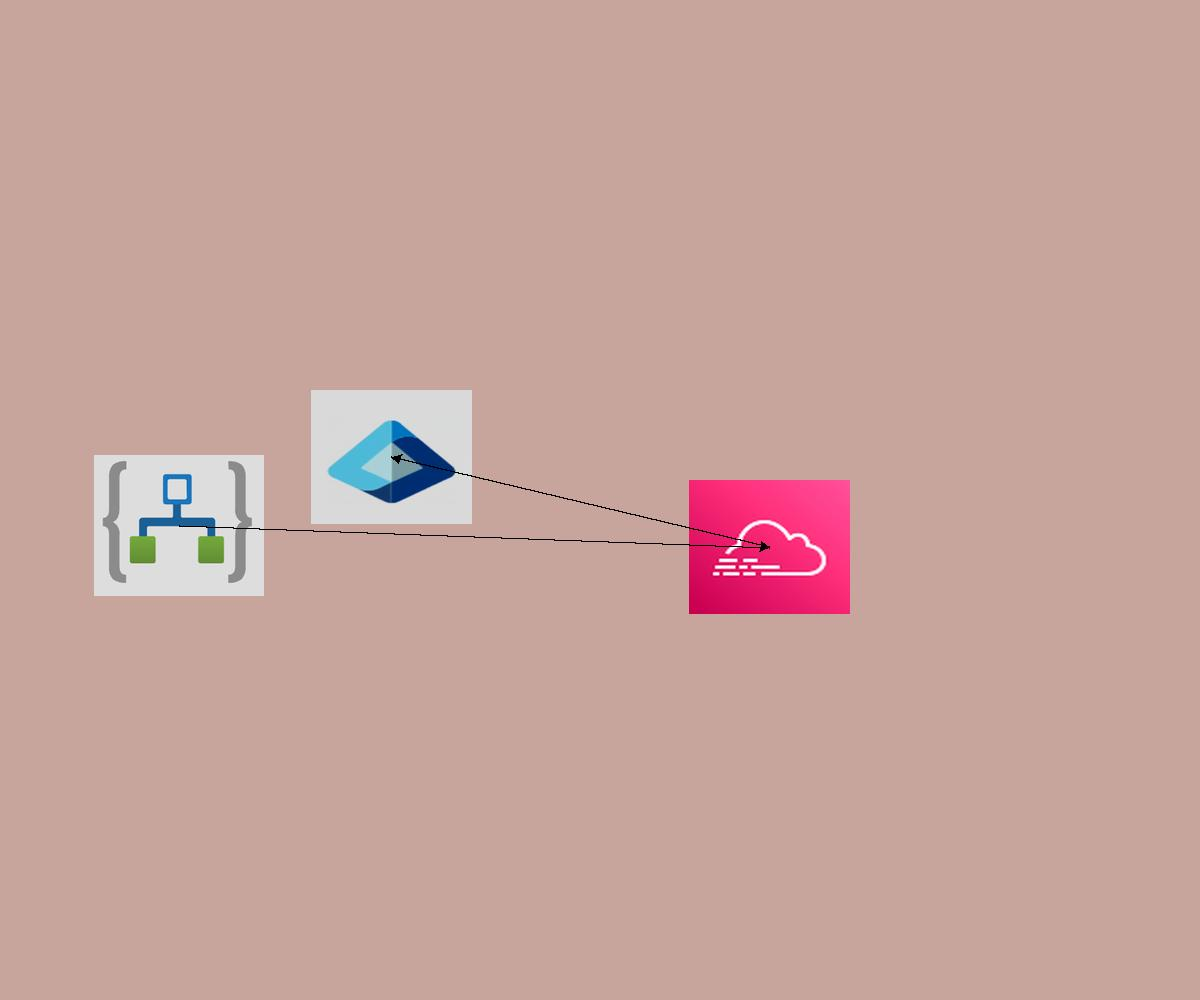AWS-CloudTrail: (689, 480, 850, 614)
Azure_integration-204-Logic-Apps: (94, 455, 264, 596)
Azure_microsoft_entra: (311, 390, 472, 524)
